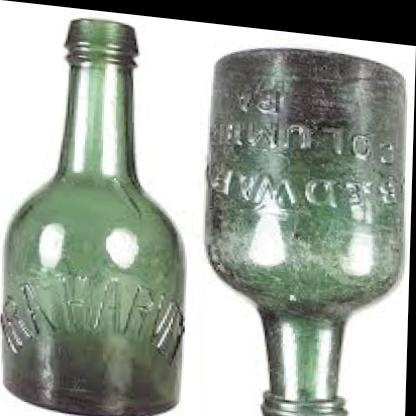trash: (206, 49, 404, 415), (1, 19, 183, 415)
